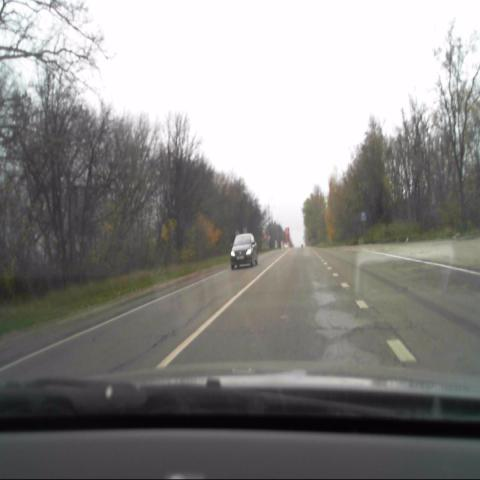5_15_5: (360, 211, 367, 222)
